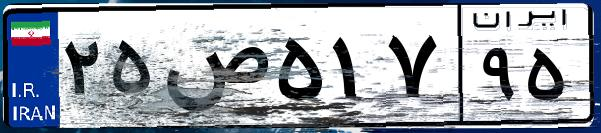1: (330, 28, 385, 110)
2: (57, 26, 110, 100)
5: (270, 28, 330, 110), (525, 38, 570, 115), (110, 28, 158, 98)
7: (385, 28, 445, 110)
9: (475, 38, 525, 113)
ص: (158, 20, 270, 120)
